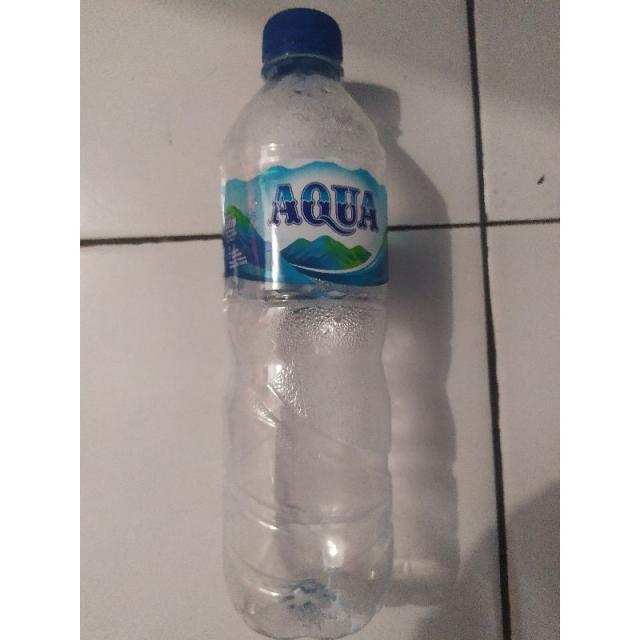bottle: (219, 6, 396, 640)
